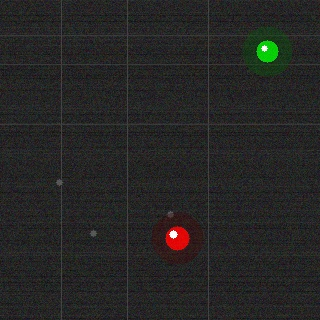green_normal: (254, 38, 280, 64)
red_fault: (163, 224, 191, 252)
